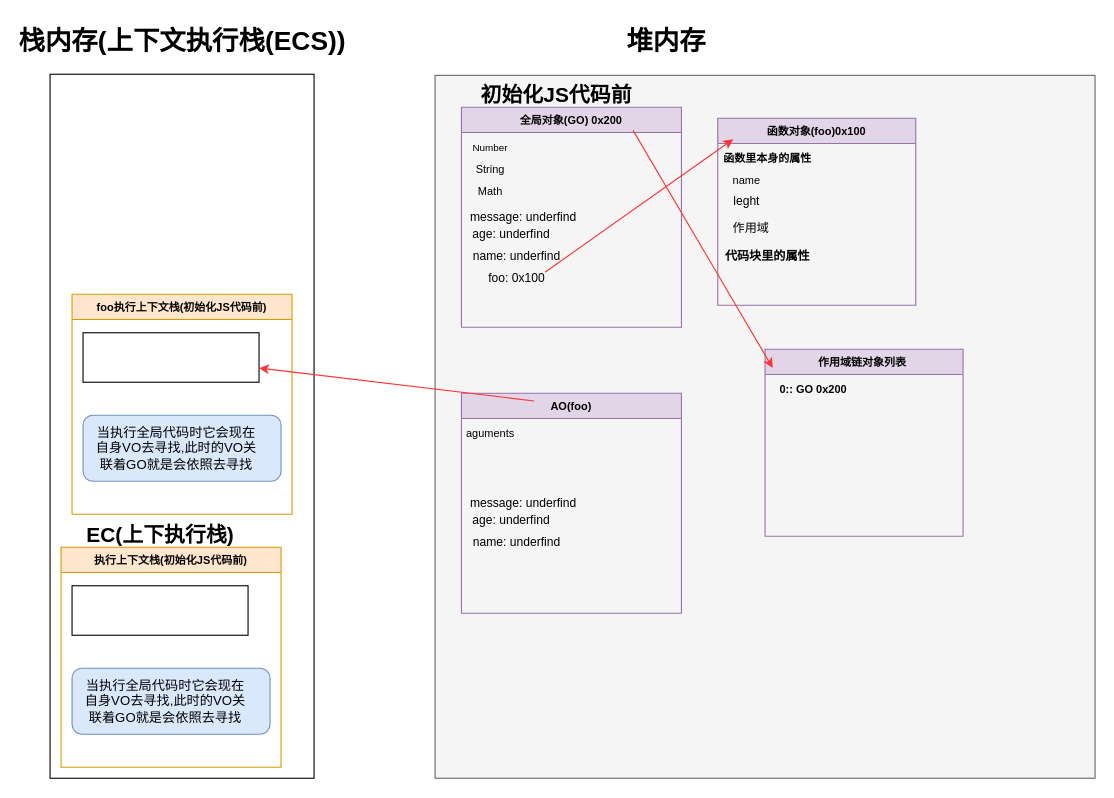
The diagram is 1114 pixels wide and 798 high, and some of its shapes have lost their labels. The shapes that lost their labels are listed below. From the top down, each one's centre as x and y in pixels, then its label:
At point 170,357: "this 作用域链 VO: AO".
At point 159,610: "this 作用域链 VO: GO".
